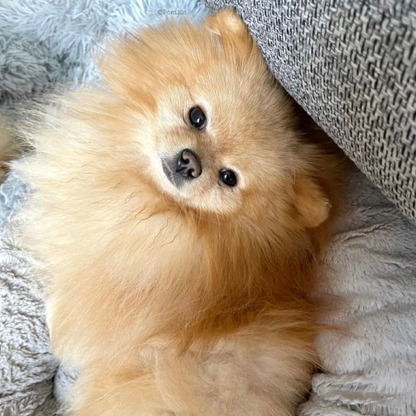Pomeranian: (40, 36, 334, 403)
